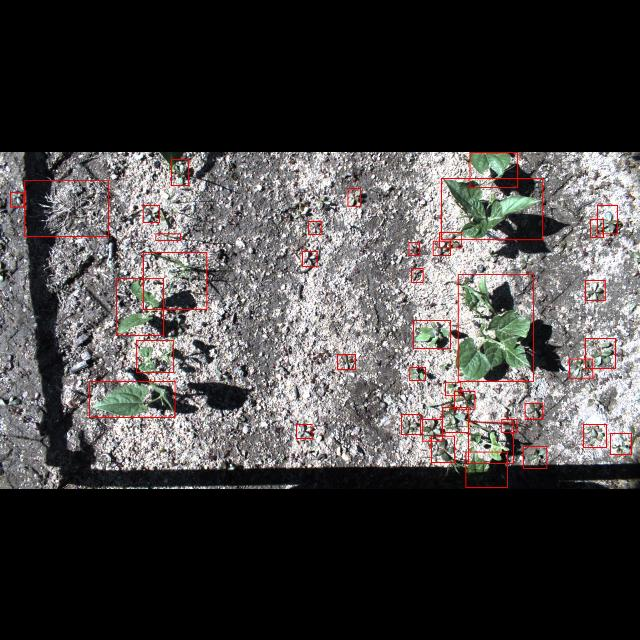crop: (458, 274, 534, 381), (441, 178, 543, 238), (89, 381, 175, 417), (470, 152, 518, 186), (466, 451, 506, 487)
weed: (24, 180, 108, 236), (143, 251, 207, 309), (116, 278, 164, 334), (468, 422, 514, 462), (137, 340, 173, 372), (414, 320, 451, 348), (585, 338, 615, 368), (431, 436, 455, 462), (442, 408, 468, 432), (597, 204, 617, 233), (523, 446, 547, 468), (584, 424, 606, 448), (569, 358, 593, 378), (610, 432, 632, 453), (422, 419, 442, 441), (172, 158, 188, 184), (455, 390, 475, 410), (585, 280, 605, 300), (402, 414, 421, 434), (440, 231, 462, 247), (142, 204, 160, 222), (337, 354, 355, 370), (433, 240, 451, 256), (525, 403, 543, 419), (302, 250, 318, 266), (590, 218, 604, 236), (296, 424, 312, 438), (445, 381, 461, 395), (348, 187, 360, 205), (10, 192, 24, 206), (502, 418, 516, 432), (156, 232, 180, 240), (410, 368, 426, 380), (308, 220, 322, 233), (412, 268, 422, 282), (408, 242, 419, 254)
